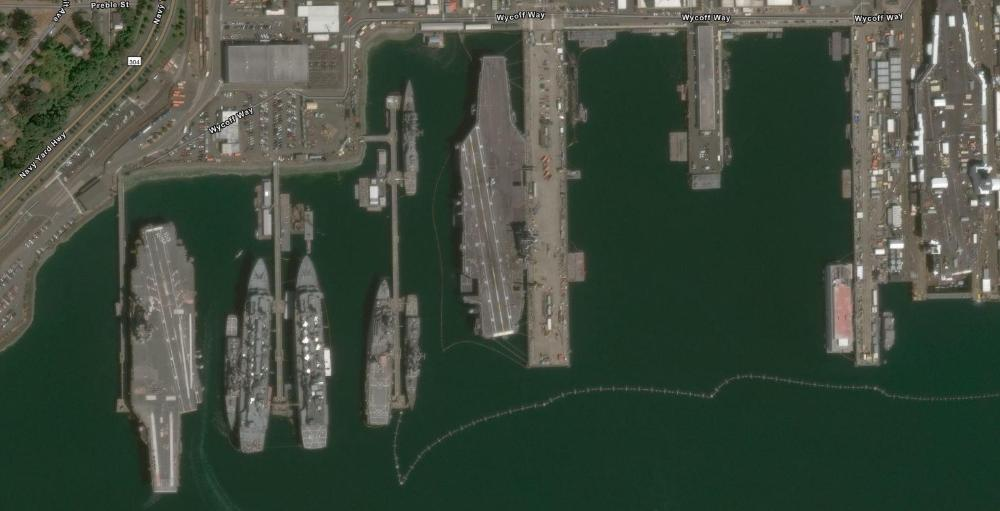carrier: (451, 47, 534, 351), (124, 215, 200, 503)
cruiser: (398, 75, 428, 205), (403, 292, 426, 412), (221, 313, 241, 433)
tender: (289, 255, 343, 460), (238, 252, 276, 460)
